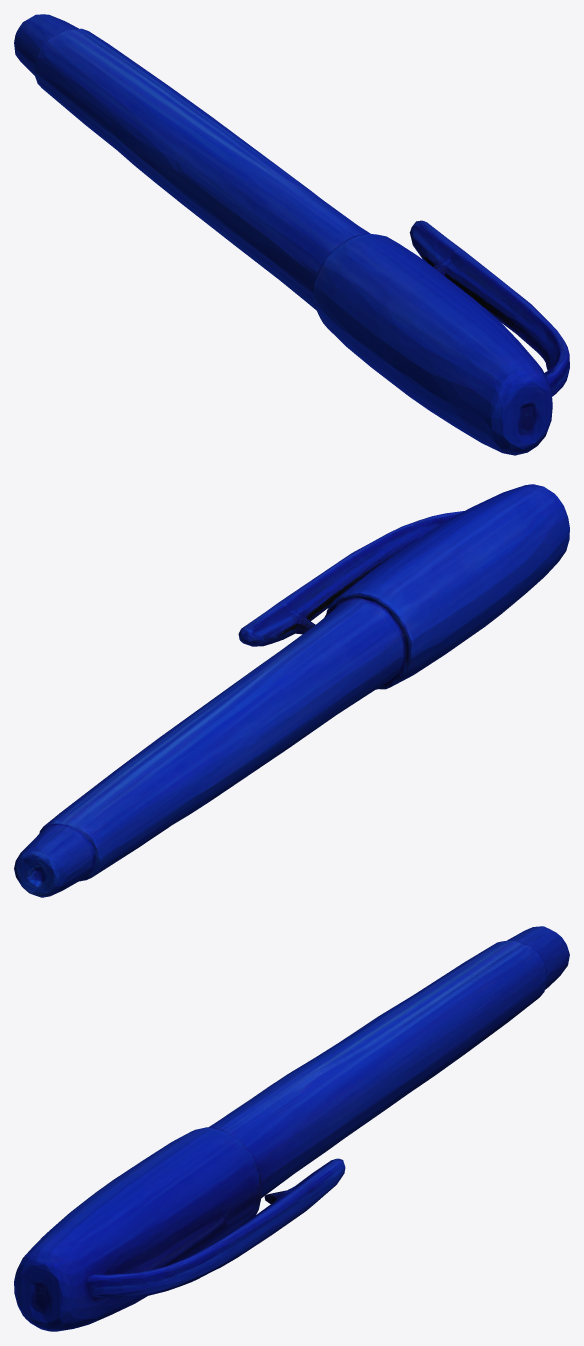
Rendered from pen.glb.
3 views of the same model, one above another, from view 1: azimuth 30°, elevation 25°; view 2: azimuth 150°, elevation 25°; view 3: azimuth 330°, elevation 25° (orthographic). The views are drawn at different scales.
Visible parts, largest first — view 1: world; view 2: world; view 3: world.
Part boxes in pixels (x1=…): world: x1=14, y1=14, x2=569, y2=455; world: x1=14, y1=484, x2=569, y2=897; world: x1=14, y1=926, x2=569, y2=1331.
Bounding box in the file's own units: 0.1757 × 0.1164 × 0.9999.
1 material, 1 textured.
